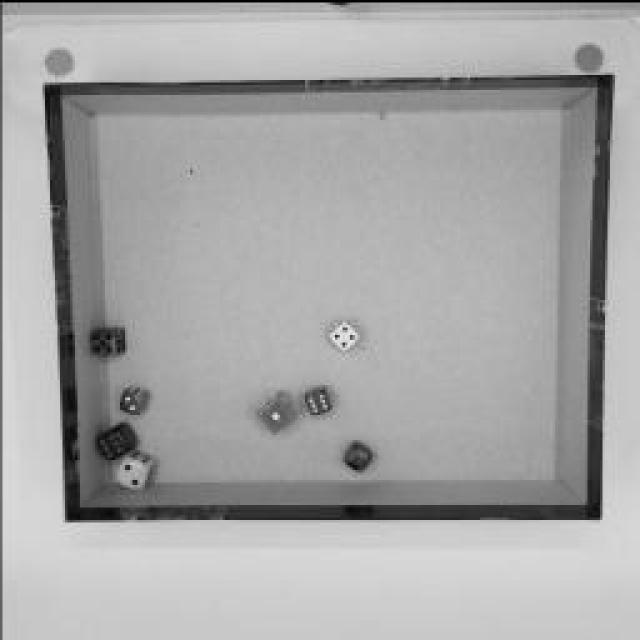dice_1: (252, 389, 298, 431), (337, 435, 375, 470)
dice_2: (115, 450, 160, 485), (118, 381, 152, 414)
dice_4: (328, 316, 358, 349)
dice_5: (88, 323, 130, 355)
dice_6: (94, 420, 136, 455), (302, 381, 332, 414)
